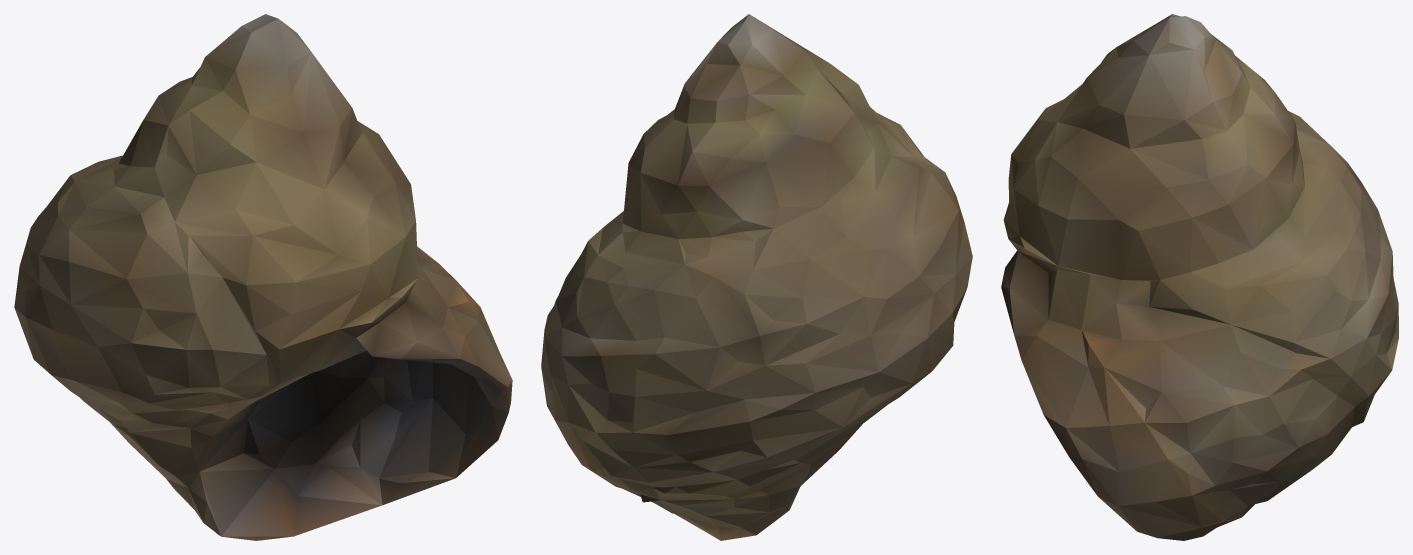
The model's file is periwinkle.gltf.
3 views of the same model, side by side, from view 1: azimuth 30°, elevation 25°; view 2: azimuth 150°, elevation 25°; view 3: azimuth 270°, elevation 25° (orthographic). The views are drawn at different scales.
Visible parts, largest first — view 1: QS980-W10-1; view 2: QS980-W10-1; view 3: QS980-W10-1.
Boxes of the visible parts, left/top/right/bottom form: QS980-W10-1: left=14, top=14, right=512, bottom=540; QS980-W10-1: left=541, top=14, right=972, bottom=540; QS980-W10-1: left=1001, top=14, right=1398, bottom=540.
Size of the model in its own units: 0.8018 by 1 by 0.7281.
